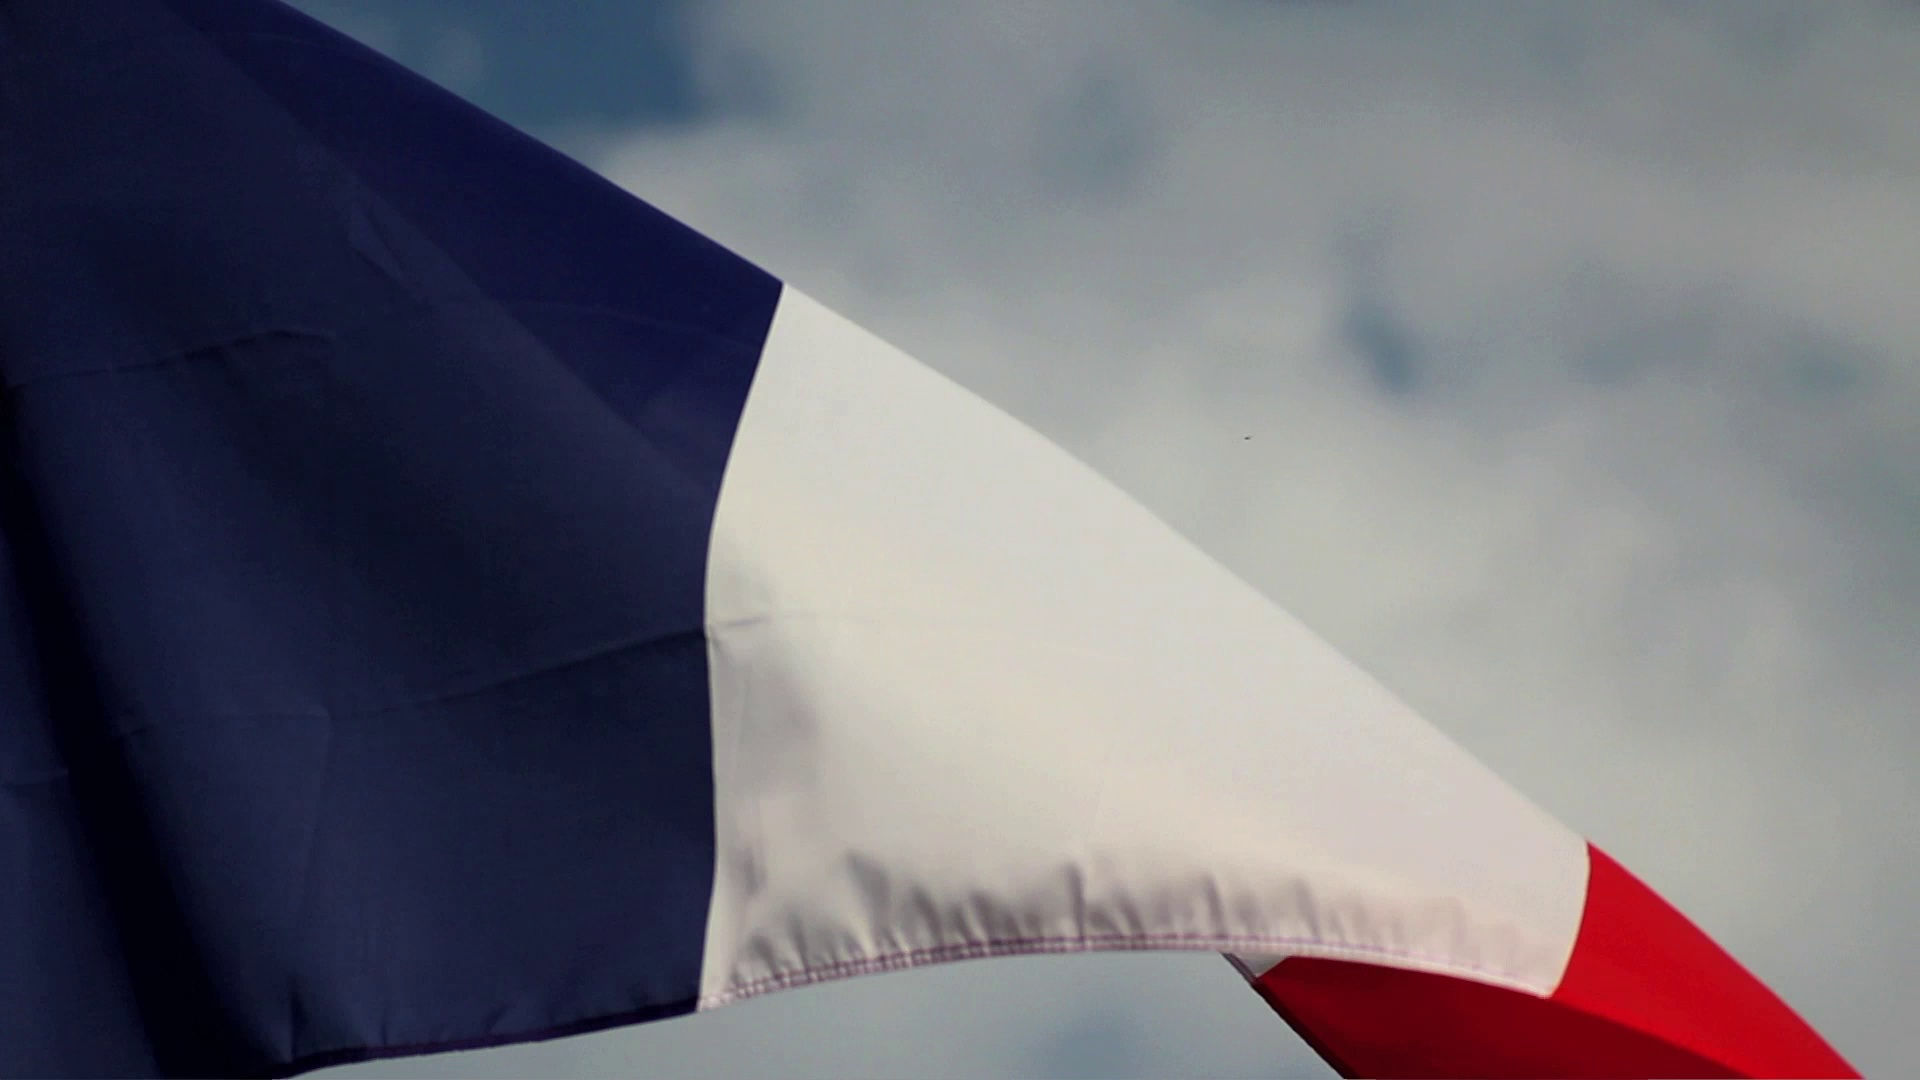French Flag: (1, 1, 1851, 1080)
